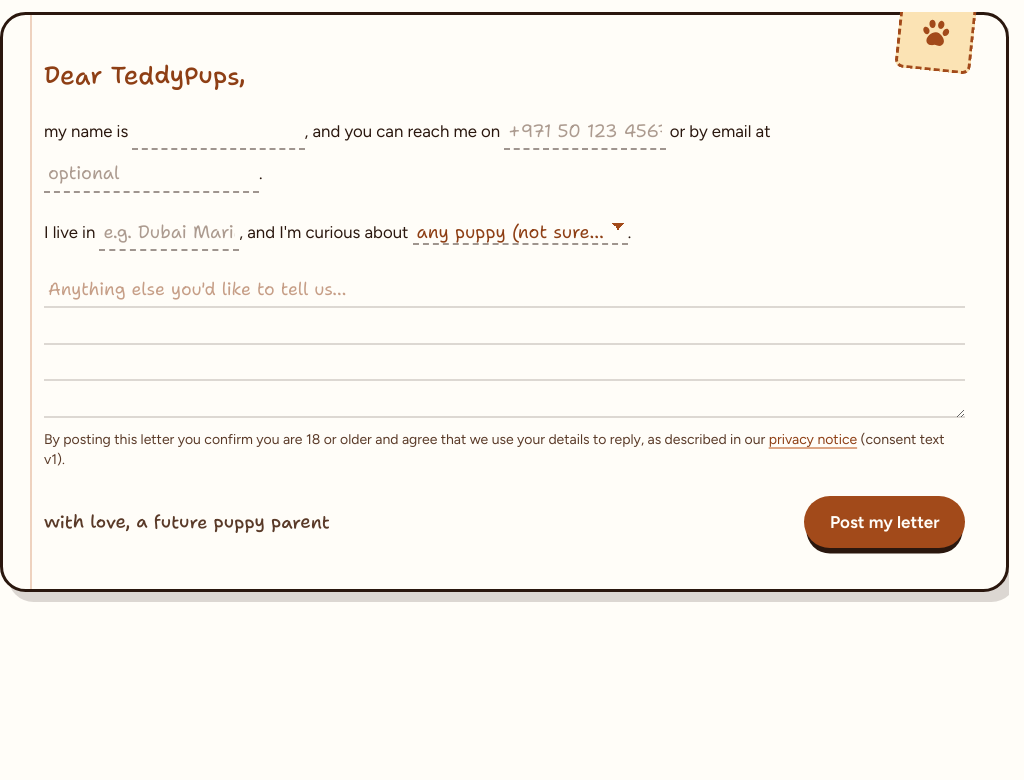
it: LetterForm (contact) › does not submit invalid input and links to the privacy notice
Click the button "Post my letter" at point(885, 522), box [804, 496, 965, 548]
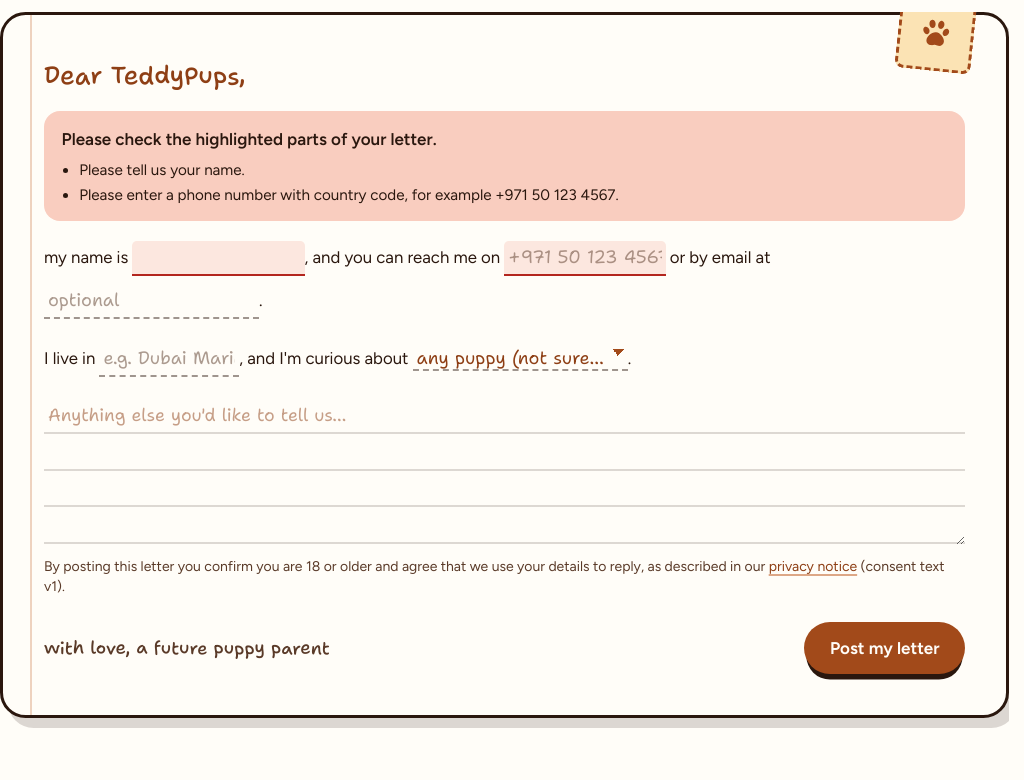
Expected: the message is shown, [44, 111, 965, 222]
